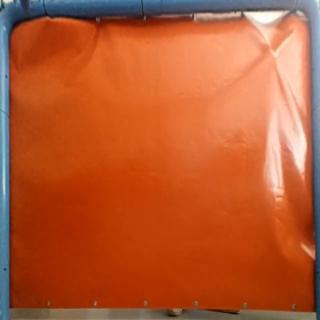Hit-hRxx: (266, 47, 284, 63)
